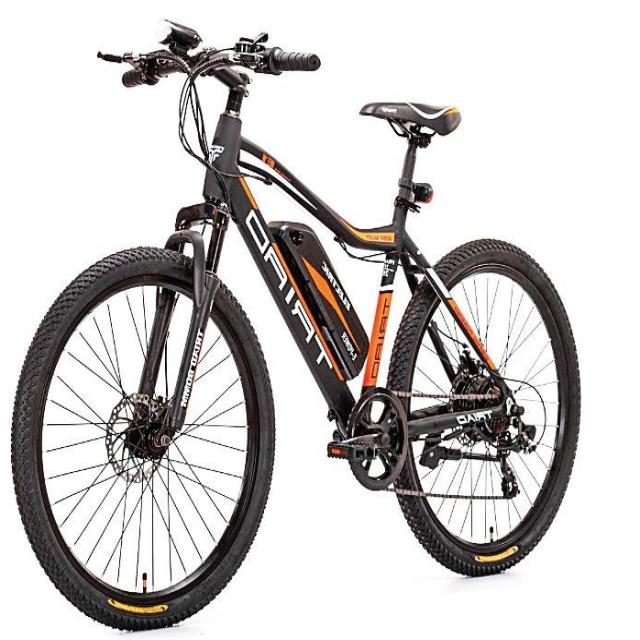bicycle: (12, 24, 580, 632)
